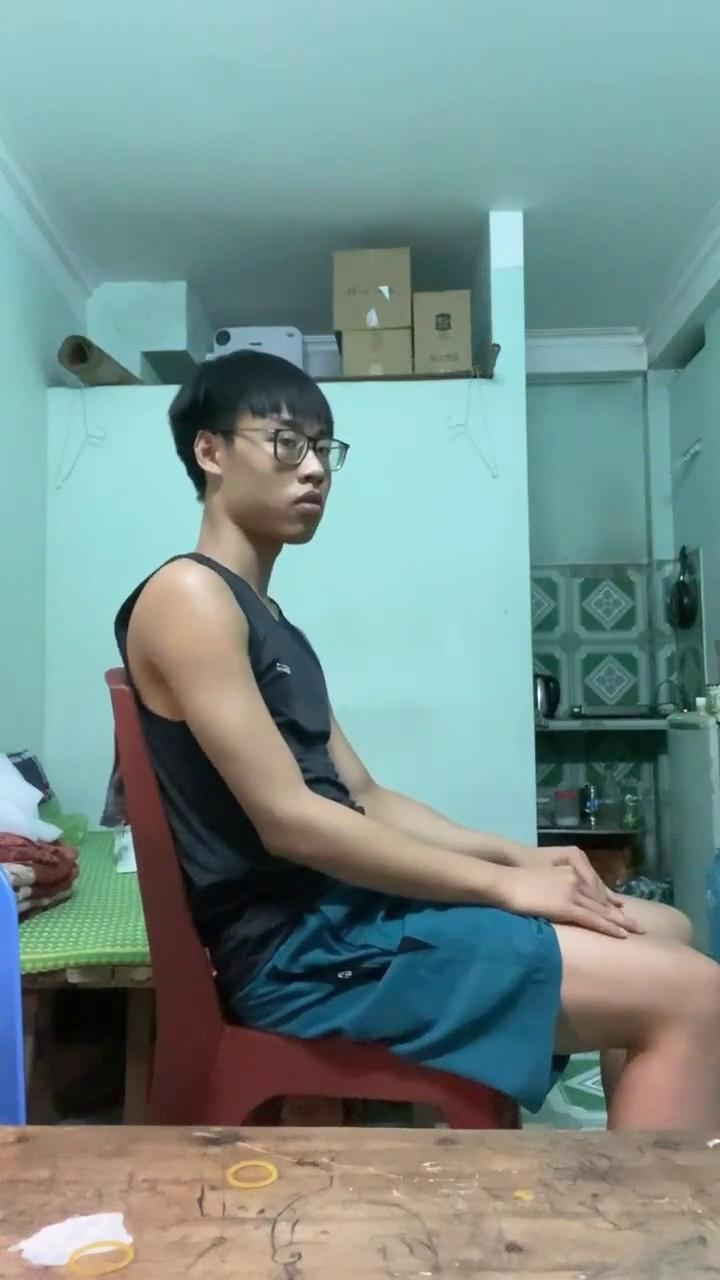GoodPosture: (116, 353, 719, 1128)
